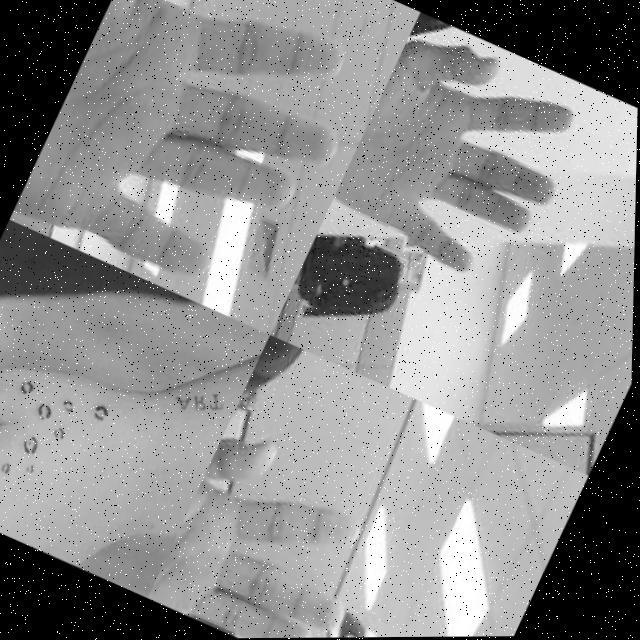no-gloves: (11, 0, 403, 322), (326, 16, 602, 297), (0, 280, 221, 589), (149, 416, 407, 639)
